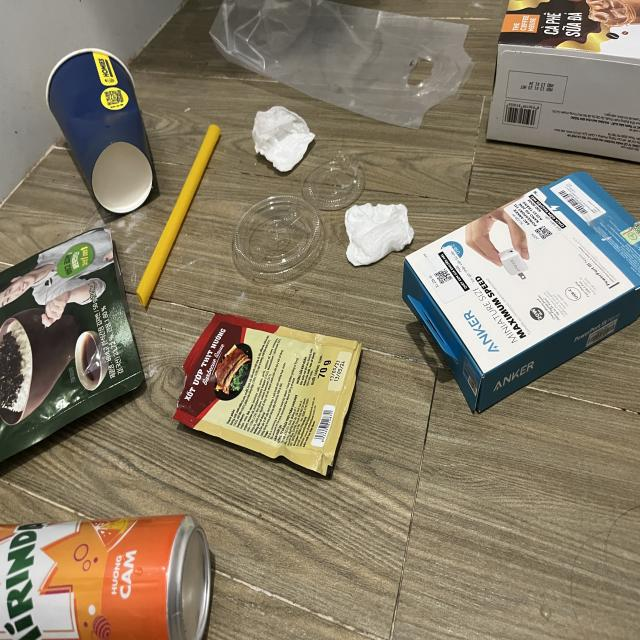bag: (209, 0, 475, 132)
can: (0, 517, 212, 640)
cardboard box: (402, 167, 640, 414), (487, 0, 640, 164)
drinking straw: (137, 125, 221, 311), (136, 125, 220, 310)
lid: (233, 195, 325, 286), (302, 153, 366, 209)
napkin: (253, 106, 317, 176), (345, 204, 415, 266)
packet: (173, 313, 362, 476)
plastic glass: (45, 47, 153, 213)
snack package: (0, 225, 147, 466)
